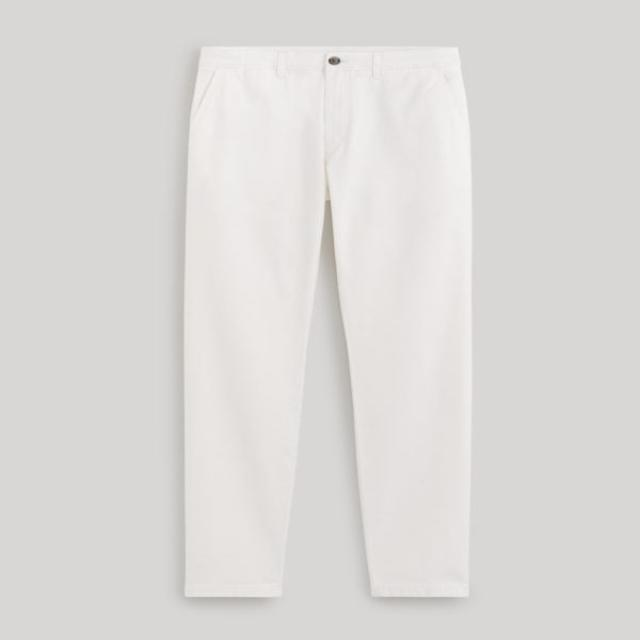long-pants: (181, 46, 474, 603)
